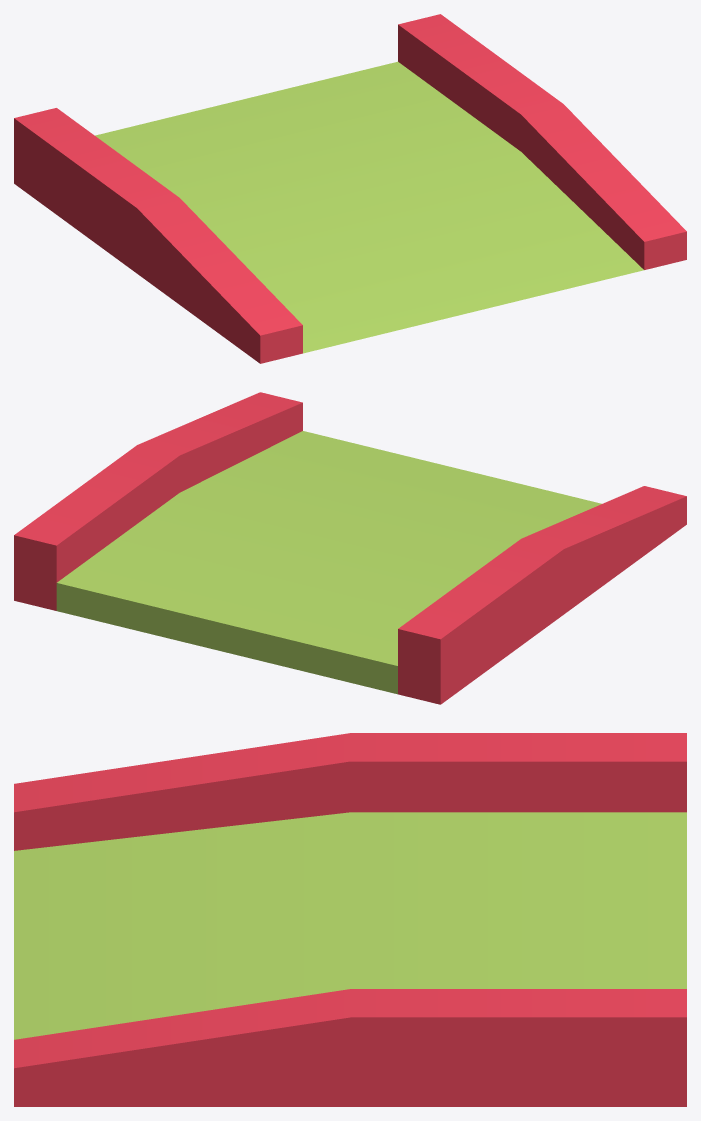
Rendered from start.fbx.
3 renders of one model, top to bottom at view 1: azimuth 30°, elevation 25°; view 2: azimuth 150°, elevation 25°; view 3: azimuth 270°, elevation 25°, orthographic. The views are drawn at different scales.
Parts seen in each view (by area): view 1: start; view 2: start; view 3: start.
Boxes of the visible parts, bbox=[...] form: start: bbox=[14, 14, 686, 363]; start: bbox=[14, 392, 686, 704]; start: bbox=[14, 733, 686, 1106].
Bounding box in the file's own units: 10 × 1.47 × 10.
